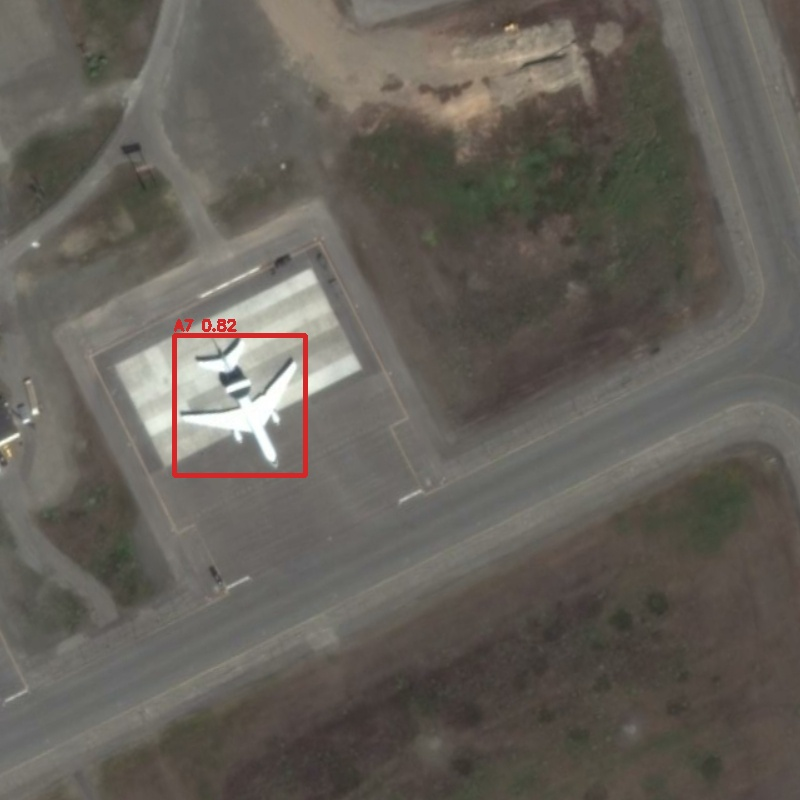A7: (174, 335, 305, 475)
